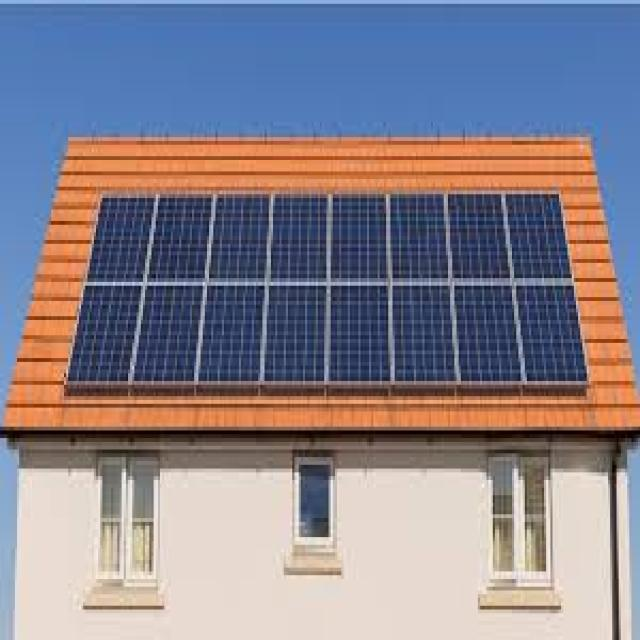clean-solar-panel: (70, 192, 586, 388)
